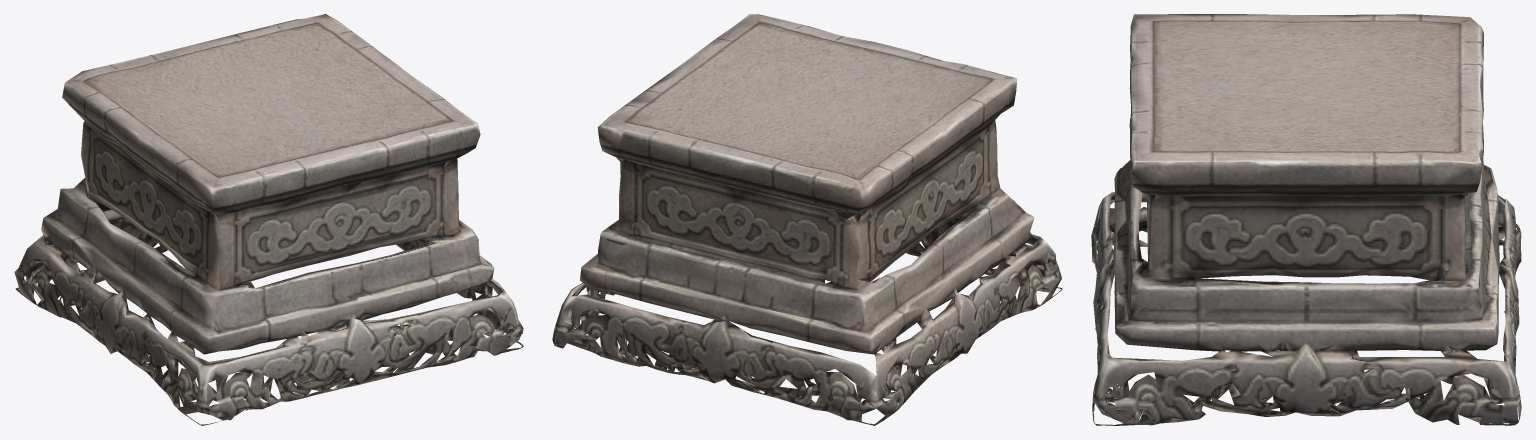
Rendered from 경복궁_받침대.glb.
The picture shows the model from 3 angles, left to right: view 1: azimuth 30°, elevation 25°; view 2: azimuth 150°, elevation 25°; view 3: azimuth 270°, elevation 25°; orthographic projection. The views are drawn at different scales.
Parts seen in each view (by area): view 1: texture_mapping; view 2: texture_mapping; view 3: texture_mapping.
Part boxes in pixels (x1=…): texture_mapping: x1=14, y1=14, x2=523, y2=425; texture_mapping: x1=552, y1=14, x2=1062, y2=425; texture_mapping: x1=1091, y1=14, x2=1521, y2=425.
Bounding box in the file's own units: 0.9895 × 0.637 × 0.9891.
1 material, 1 textured.
